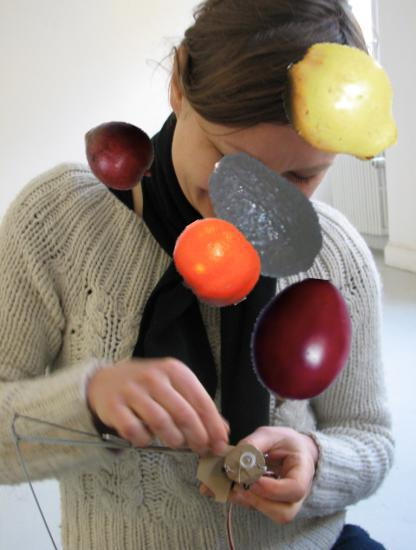Avocado: (193, 145, 334, 286)
Clementine: (170, 216, 263, 309)
Mango: (79, 115, 159, 195)
Quince: (278, 37, 411, 170)
Tamarillo: (233, 277, 370, 414)
